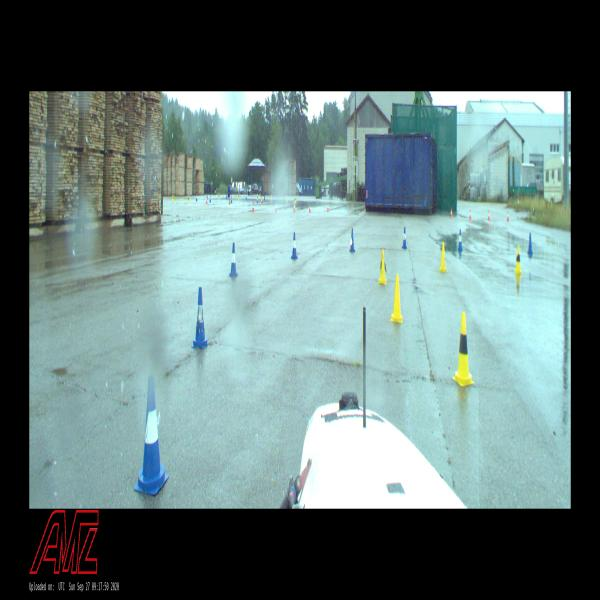blue_cone: (134, 377, 169, 496), (192, 288, 208, 348), (230, 243, 237, 276), (292, 233, 298, 258), (350, 228, 355, 251), (402, 228, 407, 248), (458, 230, 462, 250), (528, 233, 532, 253), (231, 195, 232, 203), (210, 195, 211, 202)
orange_cone: (450, 208, 453, 218), (488, 210, 490, 221), (470, 209, 472, 220), (507, 211, 509, 221), (252, 202, 254, 212), (327, 202, 329, 211), (294, 203, 296, 212), (275, 203, 277, 212), (309, 204, 311, 212), (261, 197, 263, 205), (229, 196, 231, 204), (206, 197, 207, 203)
yellow_cone: (452, 313, 475, 387), (391, 274, 403, 321), (378, 249, 386, 283), (515, 246, 522, 272), (440, 243, 446, 271), (296, 198, 296, 204)
